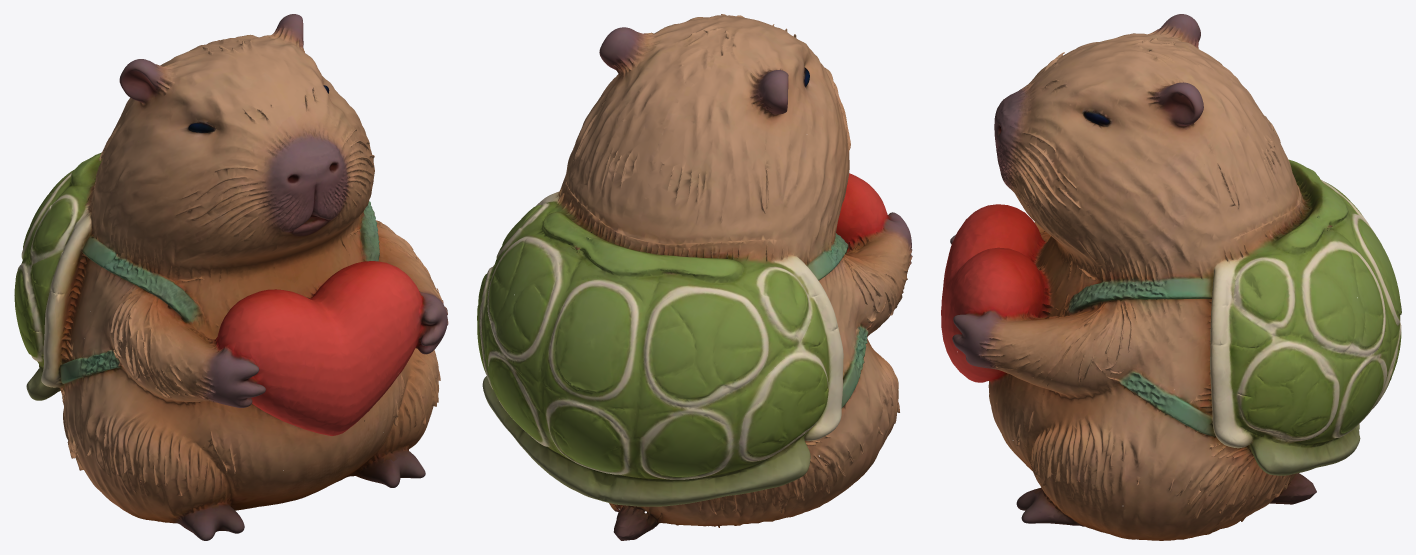
Rendered from yakap-delivery.glb.
The picture shows the model from 3 angles, left to right: view 1: azimuth 30°, elevation 25°; view 2: azimuth 150°, elevation 25°; view 3: azimuth 270°, elevation 25°; orthographic projection.
Parts seen in each view (by area): view 1: tripo_node_551cb8f6-8701-4459-81fb-3fc9f90dd541; view 2: tripo_node_551cb8f6-8701-4459-81fb-3fc9f90dd541; view 3: tripo_node_551cb8f6-8701-4459-81fb-3fc9f90dd541.
Part boxes in pixels (x1=…): tripo_node_551cb8f6-8701-4459-81fb-3fc9f90dd541: x1=14, y1=14, x2=448, y2=540; tripo_node_551cb8f6-8701-4459-81fb-3fc9f90dd541: x1=477, y1=14, x2=912, y2=540; tripo_node_551cb8f6-8701-4459-81fb-3fc9f90dd541: x1=941, y1=14, x2=1401, y2=540.
Size of the model in its own units: 0.8061 by 1.03 by 0.9499.
Materials: 1 (1 with a texture image).
